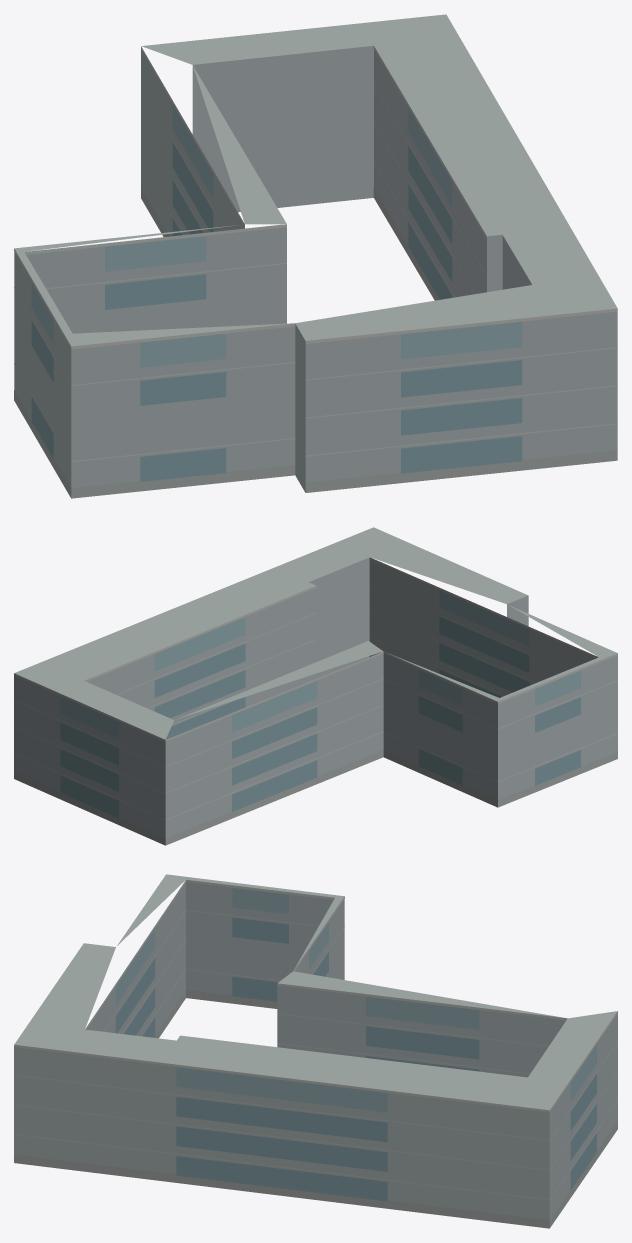
The model's file is residential-04e56637-7651-441a-ae8e-6855fa44e4fd.glb.
The picture shows the model from 3 angles, top to bottom: view 1: azimuth 30°, elevation 25°; view 2: azimuth 150°, elevation 25°; view 3: azimuth 270°, elevation 25°; orthographic projection. The views are drawn at different scales.
Parts seen in each view (by area): view 1: residential-04e56637-7651-441a-ae8e-6855fa44e4fd.tmp; view 2: residential-04e56637-7651-441a-ae8e-6855fa44e4fd.tmp; view 3: residential-04e56637-7651-441a-ae8e-6855fa44e4fd.tmp.
Boxes of the visible parts, x1,y1,x2,y2 form: residential-04e56637-7651-441a-ae8e-6855fa44e4fd.tmp: (14,14,617,498); residential-04e56637-7651-441a-ae8e-6855fa44e4fd.tmp: (14,527,617,845); residential-04e56637-7651-441a-ae8e-6855fa44e4fd.tmp: (14,874,617,1228).
Size of the model in its own units: 52.2 by 12.2 by 56.43.
